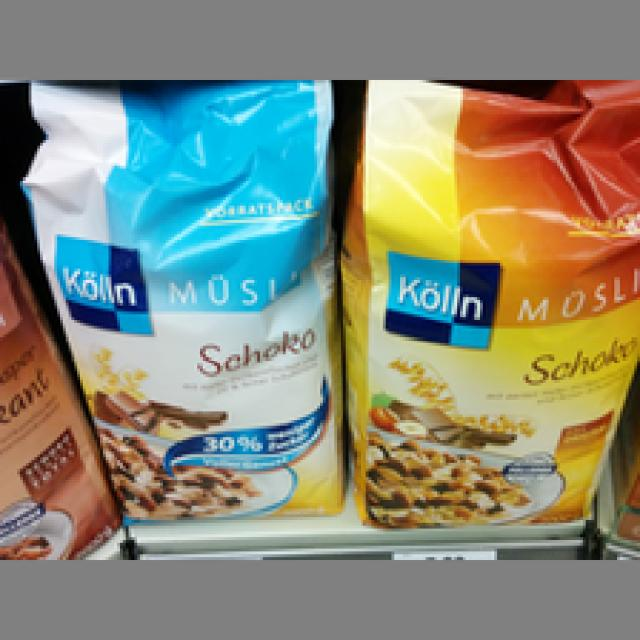groceries: (343, 117, 637, 526), (51, 97, 332, 512)
